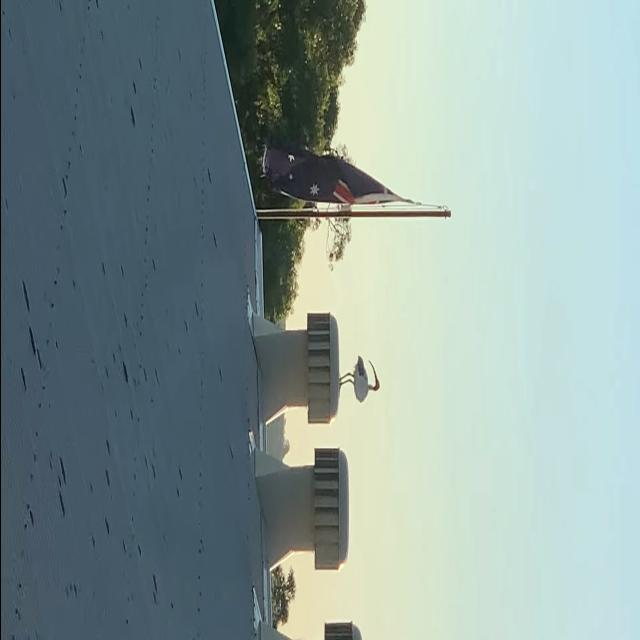Birds-Ibis: (336, 353, 381, 405)
